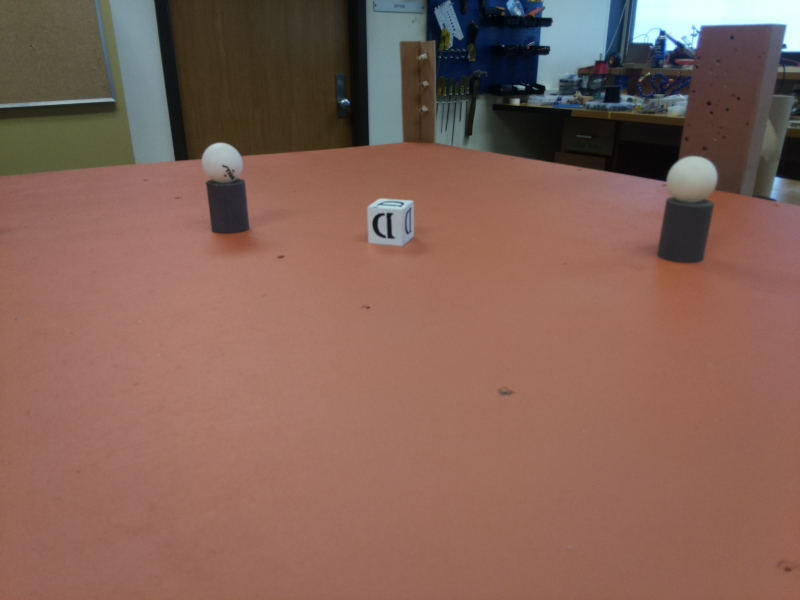blockD: (363, 196, 416, 248)
corner: (402, 41, 438, 139)
obstacle: (657, 157, 718, 262), (201, 139, 249, 233)
